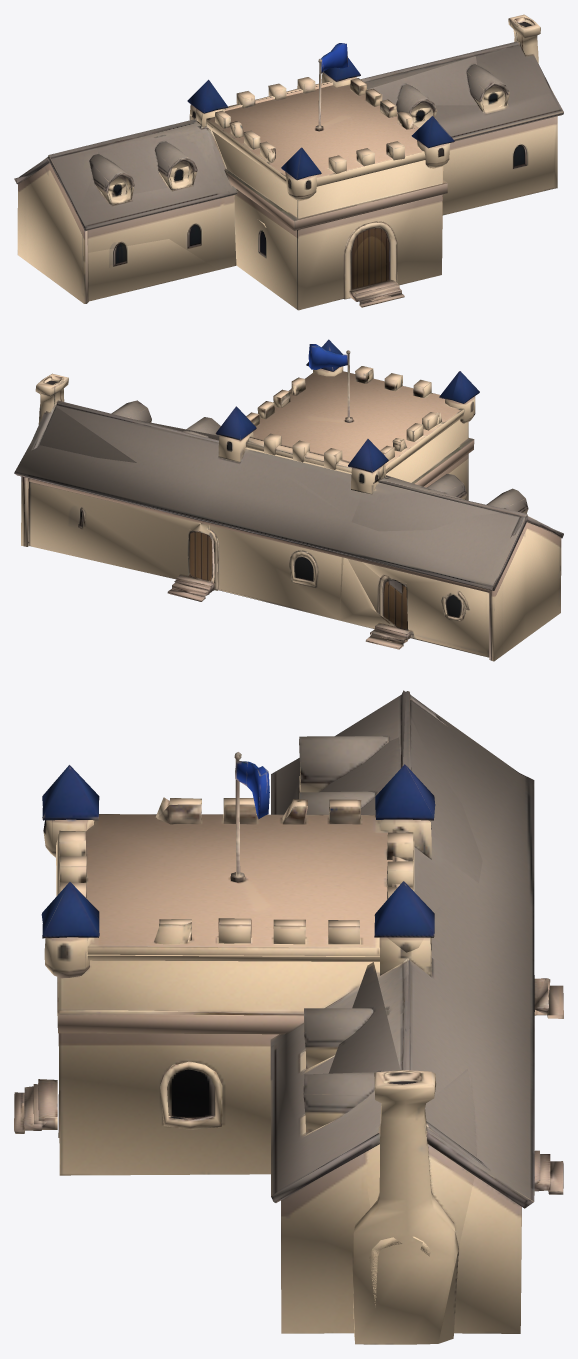
File: meshy-c8-v1.glb
3 views of the same model, one above another, from view 1: azimuth 30°, elevation 25°; view 2: azimuth 150°, elevation 25°; view 3: azimuth 270°, elevation 25° (orthographic). The views are drawn at different scales.
Bounding box in the file's own units: 1 × 0.4026 × 0.5429.
Materials: 1 (1 with a texture image).
